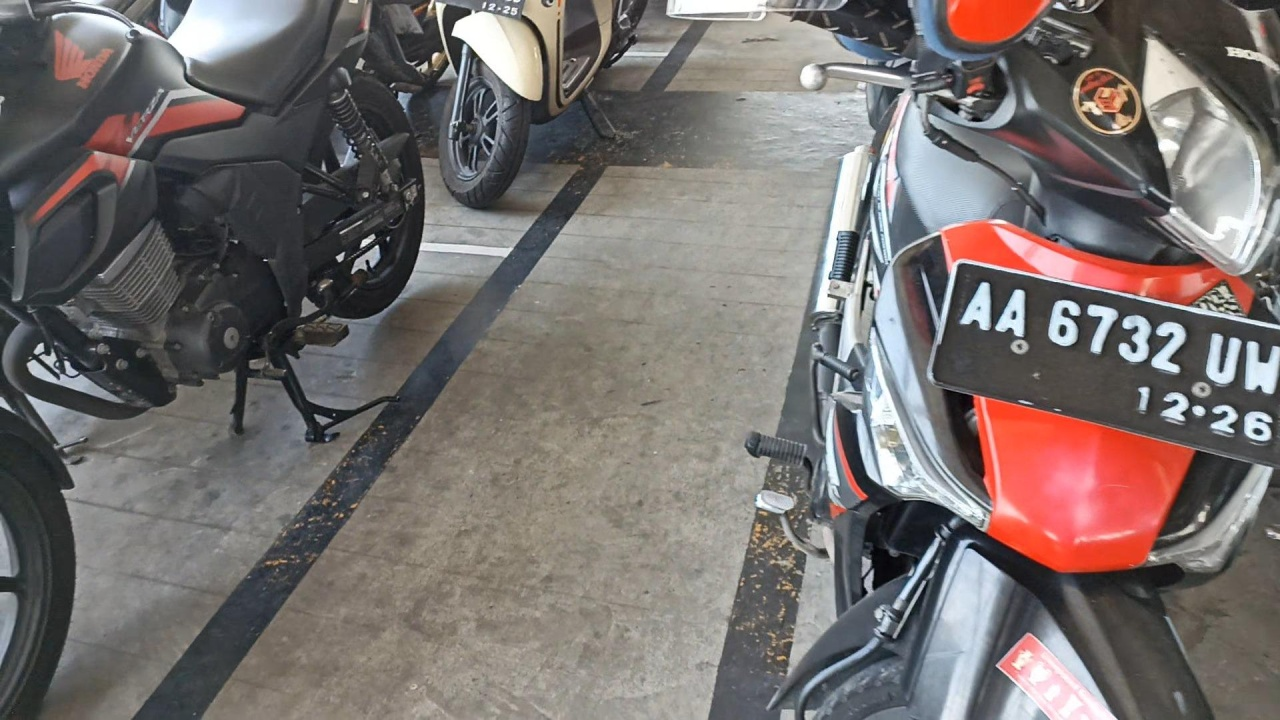plate: (926, 258, 1280, 470)
